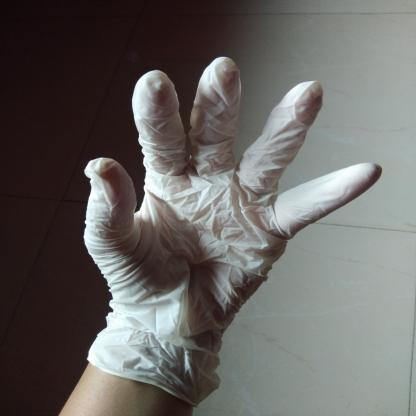gloved_hand: (73, 51, 386, 403)
